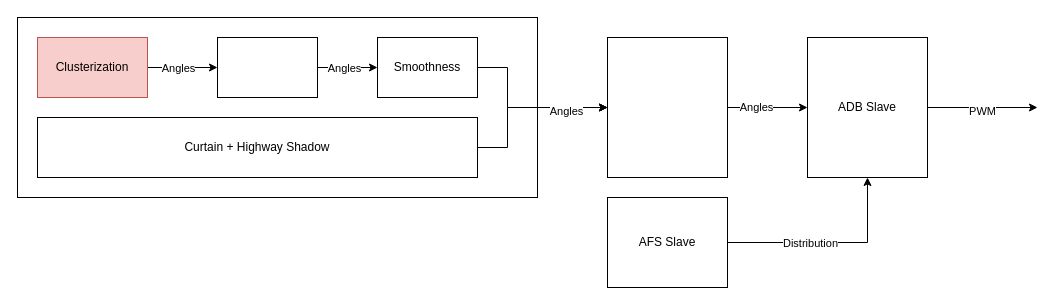
This 1063x305 diagram has some shape labels left out. The box of each missing label's shape, as (x1, y1, x2, y2) in pixels:
Base change: (216, 36, 318, 98)
Side Selection Right HL: (606, 36, 728, 178)
